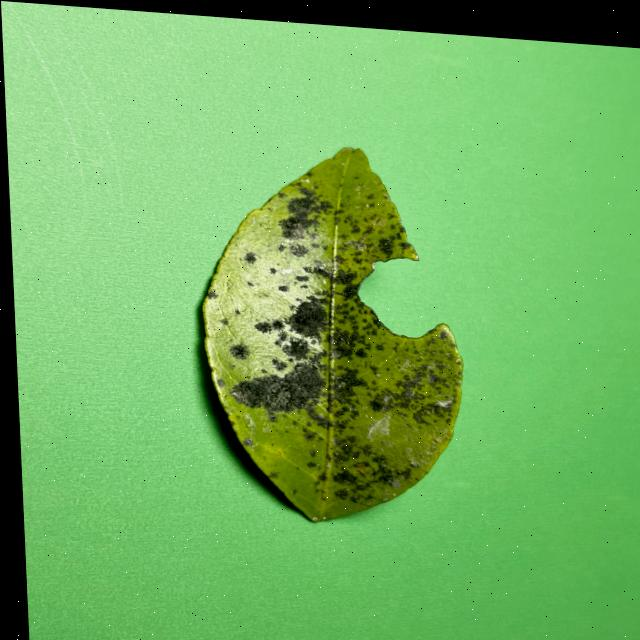sooty_mold: (203, 147, 462, 511)
